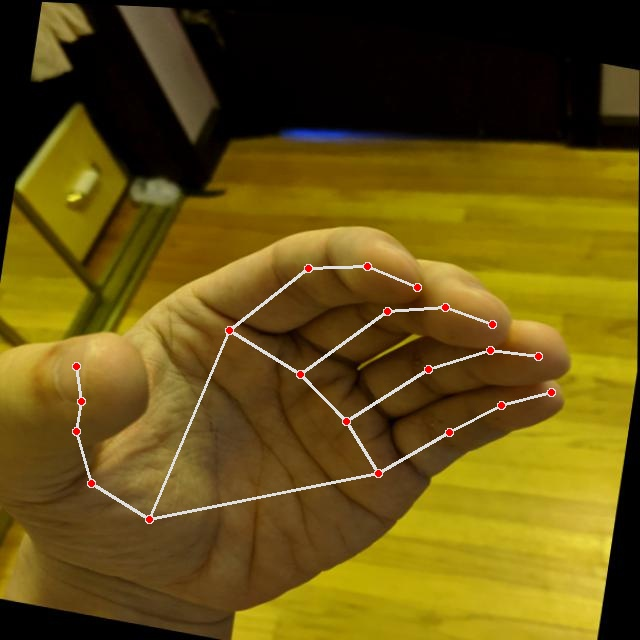C: (0, 145, 597, 639)
